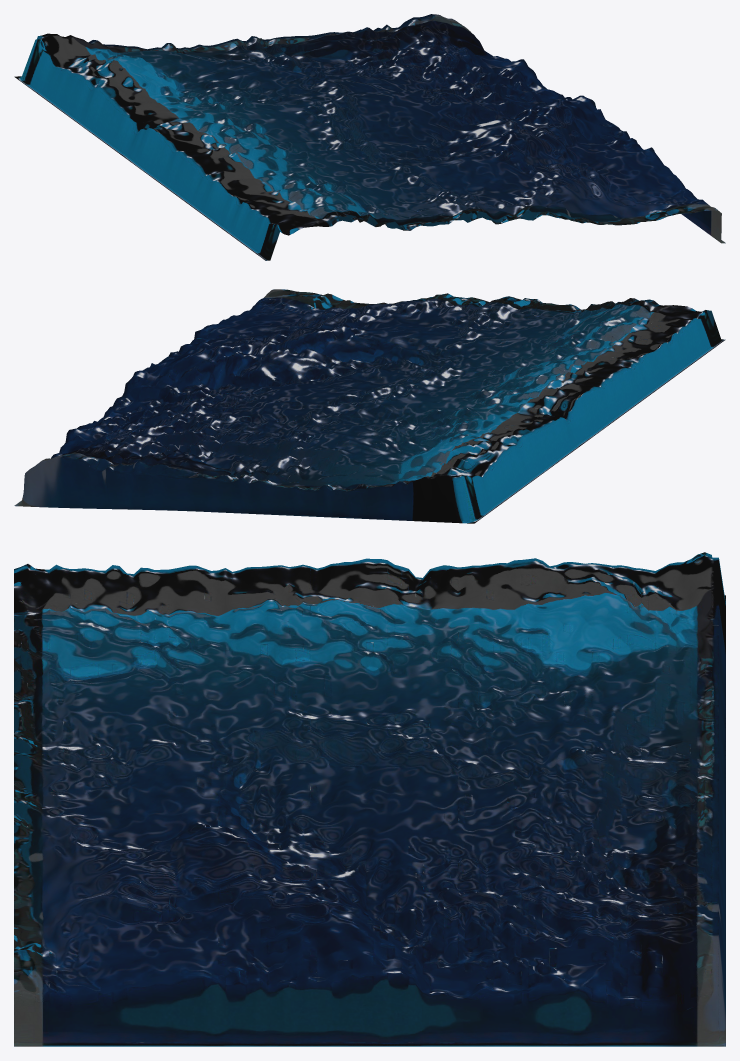
The model's file is water3.glb.
3 views of the same model, one above another, from view 1: azimuth 30°, elevation 25°; view 2: azimuth 150°, elevation 25°; view 3: azimuth 270°, elevation 25° (orthographic). The views are drawn at different scales.
Parts seen in each view (by area): view 1: Plane.002; view 2: Plane.002; view 3: Plane.002.
Boxes of the visible parts, box(x1,y1,x2,y2) form: Plane.002: box(14, 14, 725, 260); Plane.002: box(14, 289, 725, 523); Plane.002: box(14, 552, 725, 1046).
Size of the model in its own units: 2.3 by 0.6353 by 2.18.
1 material, 1 textured.
